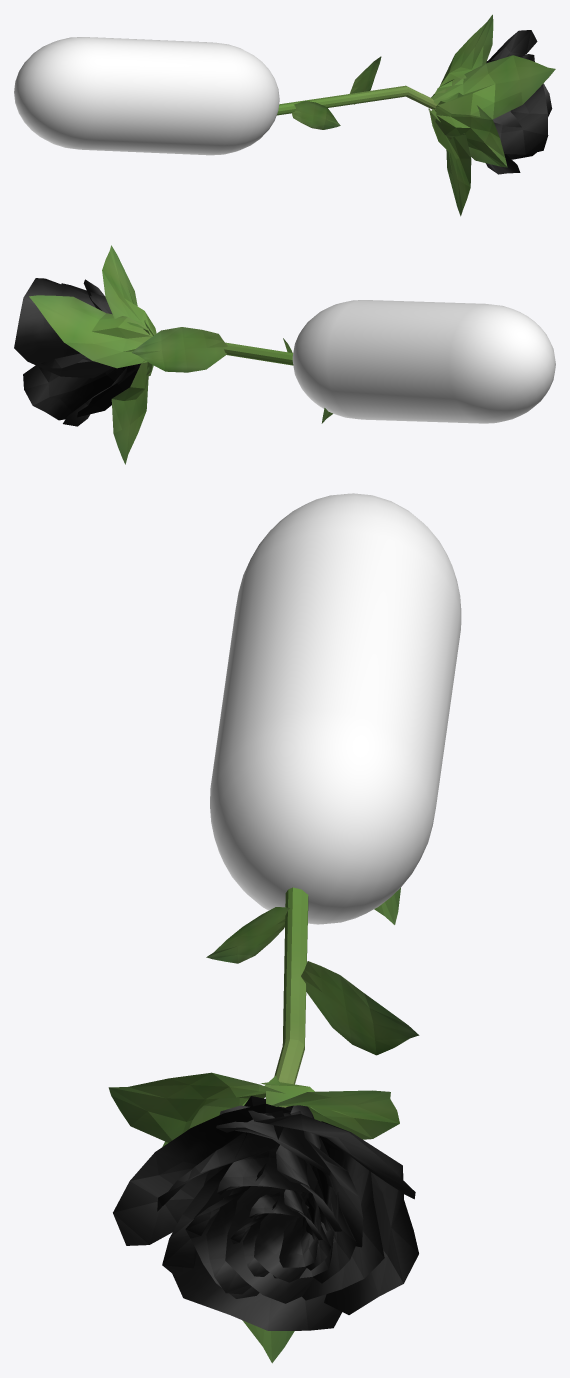
Rendered from Black Rose Anchor.fbx.
The picture shows the model from 3 angles, top to bottom: view 1: azimuth 30°, elevation 25°; view 2: azimuth 150°, elevation 25°; view 3: azimuth 270°, elevation 25°; orthographic projection. The views are drawn at different scales.
Parts seen in each view (by area): view 1: Capsule__1_, BLACK_ROSE; view 2: Capsule__1_, BLACK_ROSE; view 3: Capsule__1_, BLACK_ROSE.
Part boxes in pixels (x1,y1,x2,y2): Capsule__1_: (14,37,279,155); BLACK_ROSE: (276,14,555,216); Capsule__1_: (292,300,555,423); BLACK_ROSE: (14,245,332,464); Capsule__1_: (210,493,461,924); BLACK_ROSE: (108,887,419,1363).
Size of the model in its own units: 31.72 by 15.15 by 9.73.
